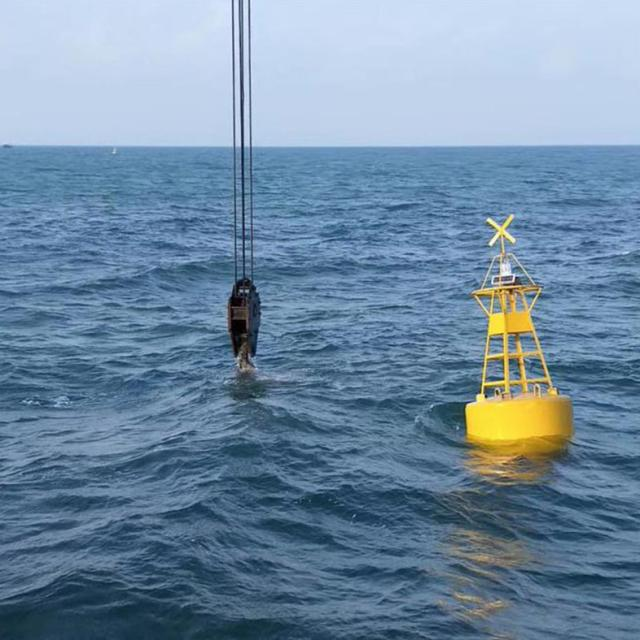buoy: (460, 211, 574, 449)
